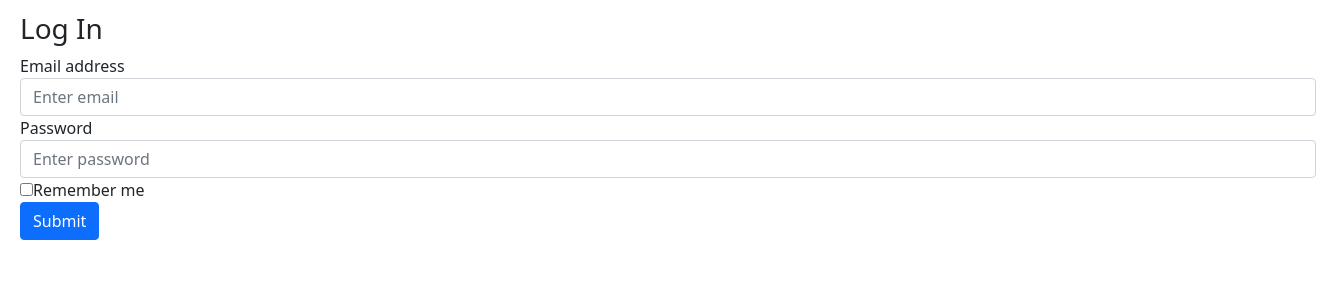
Scenario: <Login/> › pass Invalid password to test password input field
Type "sadjsa" into the password field with test id "password-input" at (668, 159), box [20,140,1316,178]
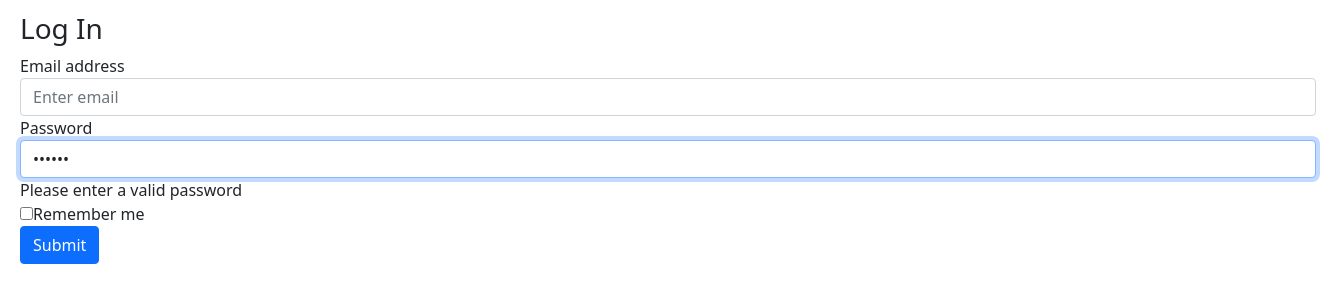
Result: the text with test id "error-msg" reads "Please enter a valid password" at [20,179,242,201]
